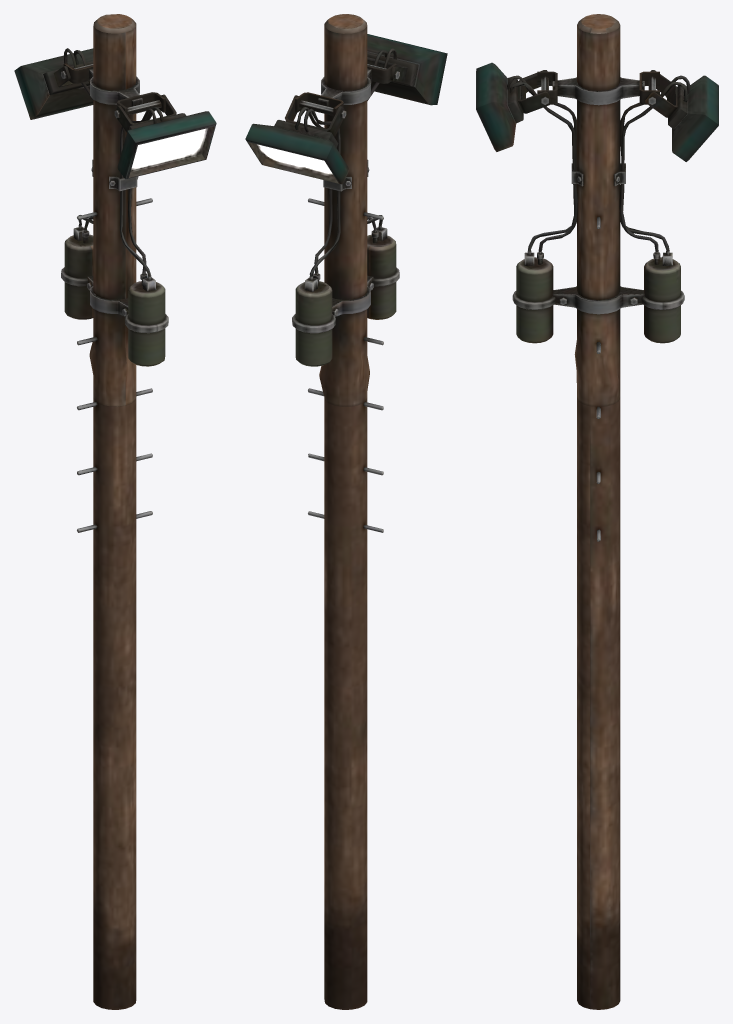
The model's file is street_light.glb.
3 renders of one model, left to right at view 1: azimuth 30°, elevation 25°; view 2: azimuth 150°, elevation 25°; view 3: azimuth 270°, elevation 25°, orthographic.
Parts seen in each view (by area): view 1: Cylinder_7; view 2: Cylinder_7; view 3: Cylinder_7.
Part boxes in pixels (<box>): Cylinder_7: <box>14,14,216,1009</box>; Cylinder_7: <box>245,14,447,1009</box>; Cylinder_7: <box>476,14,718,1009</box>.
Bounding box in the file's own units: 0.4351 × 5 × 1.12.
1 material, 1 textured.
